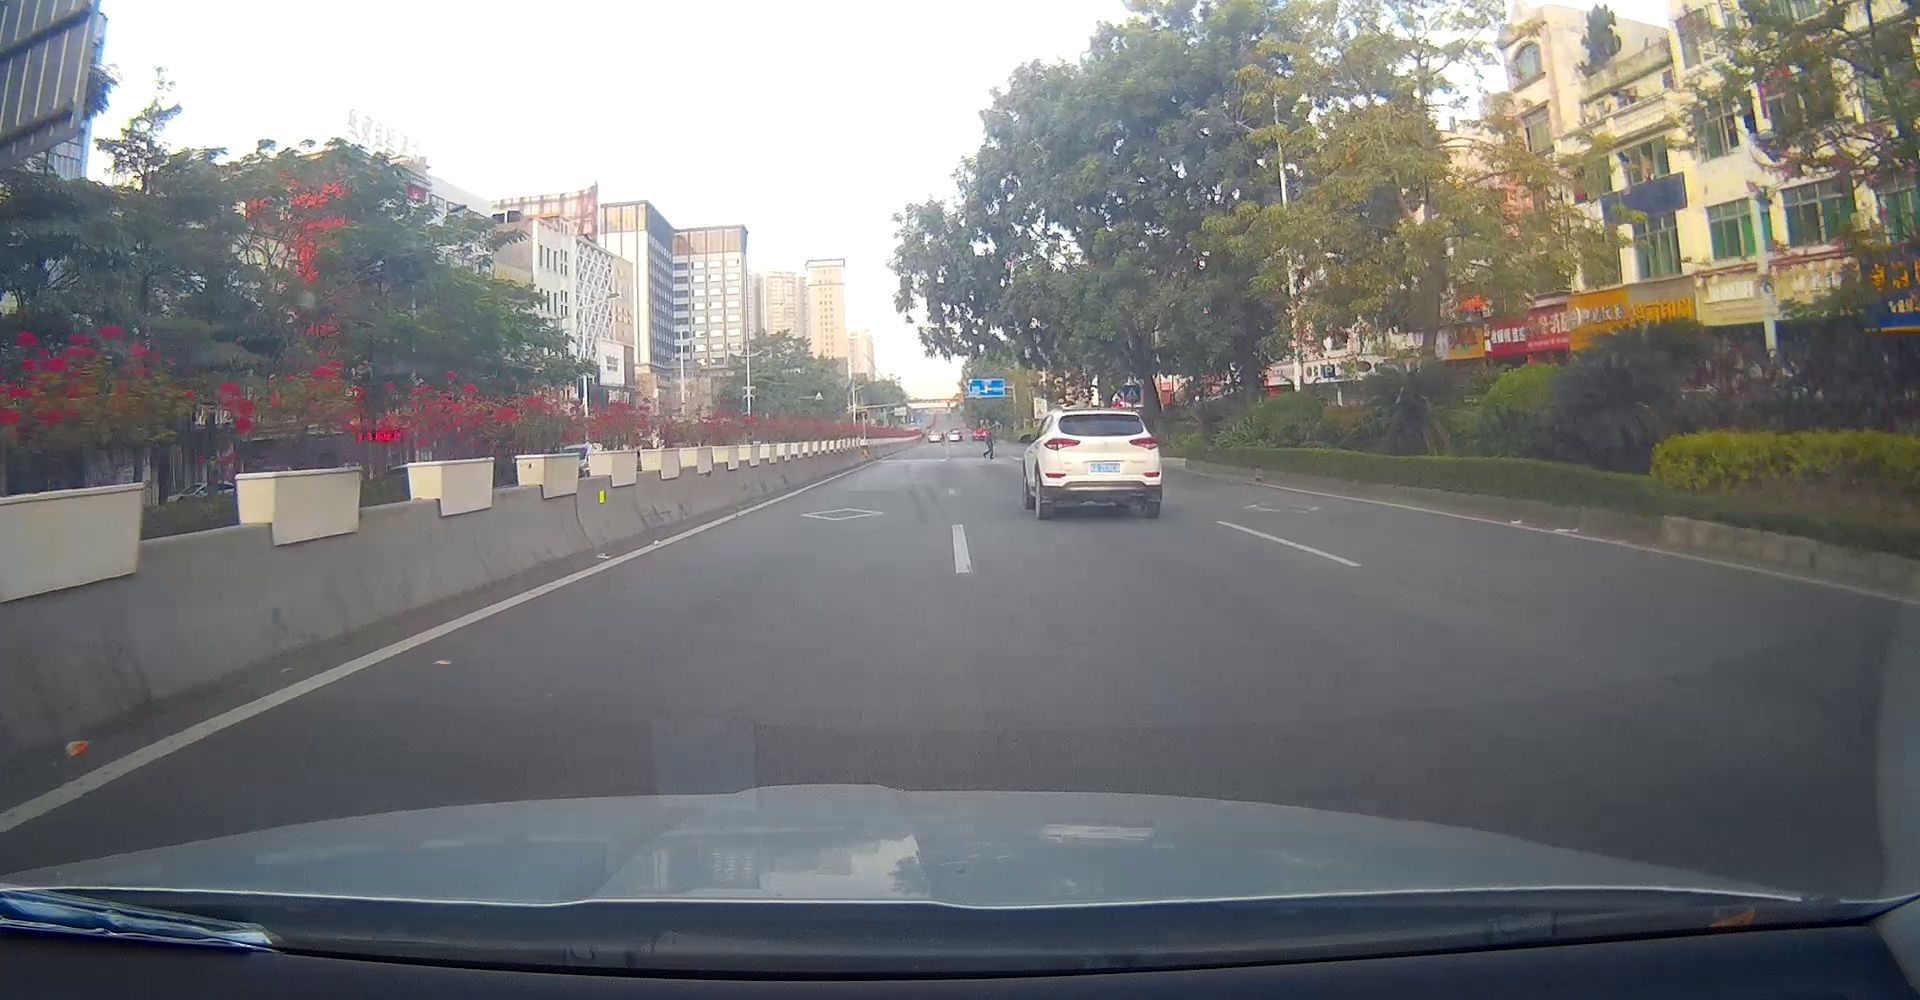L_light: (1043, 438, 1079, 451)
R_light: (1129, 437, 1159, 449)
T_light: (1093, 415, 1109, 418)
day-no: (1040, 410, 1161, 520)
